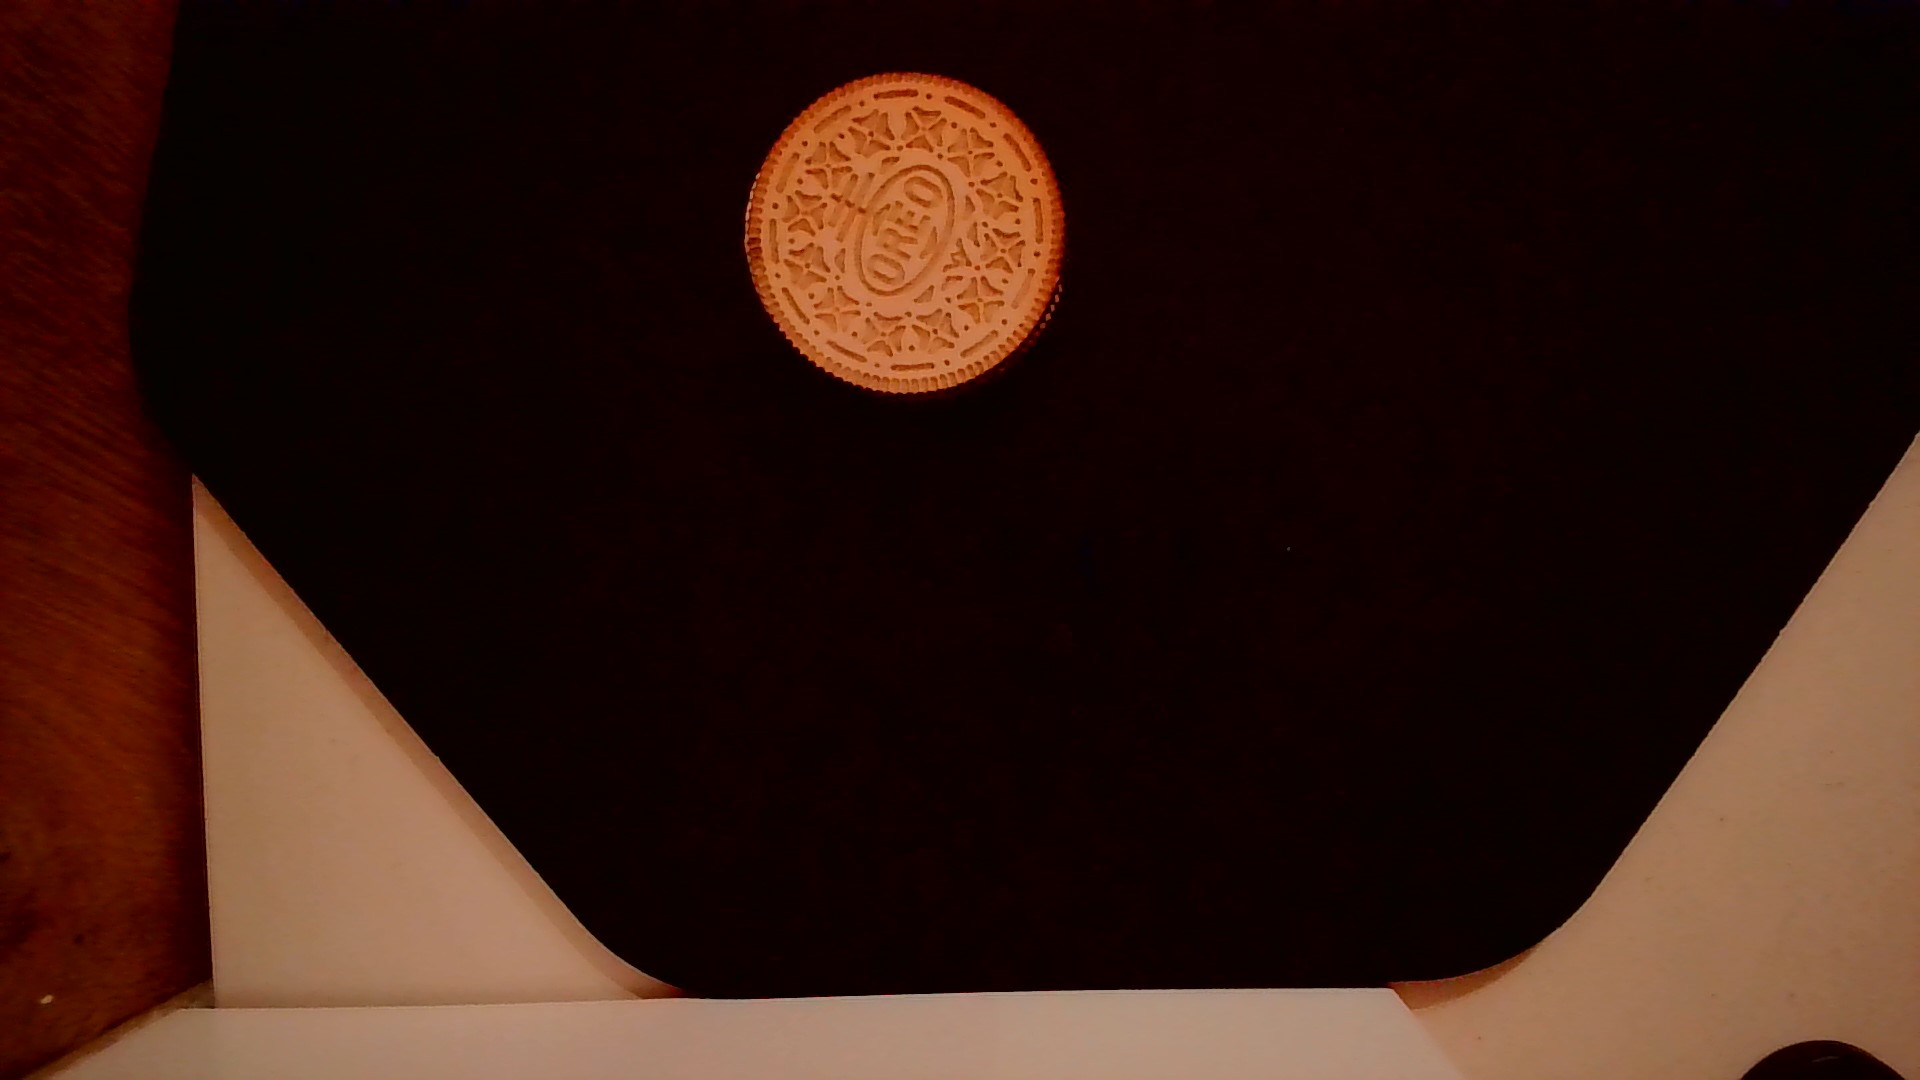Oréo: (735, 57, 1073, 415)
